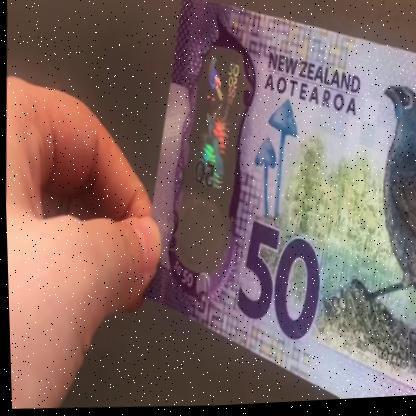50B: (176, 48, 246, 270)
